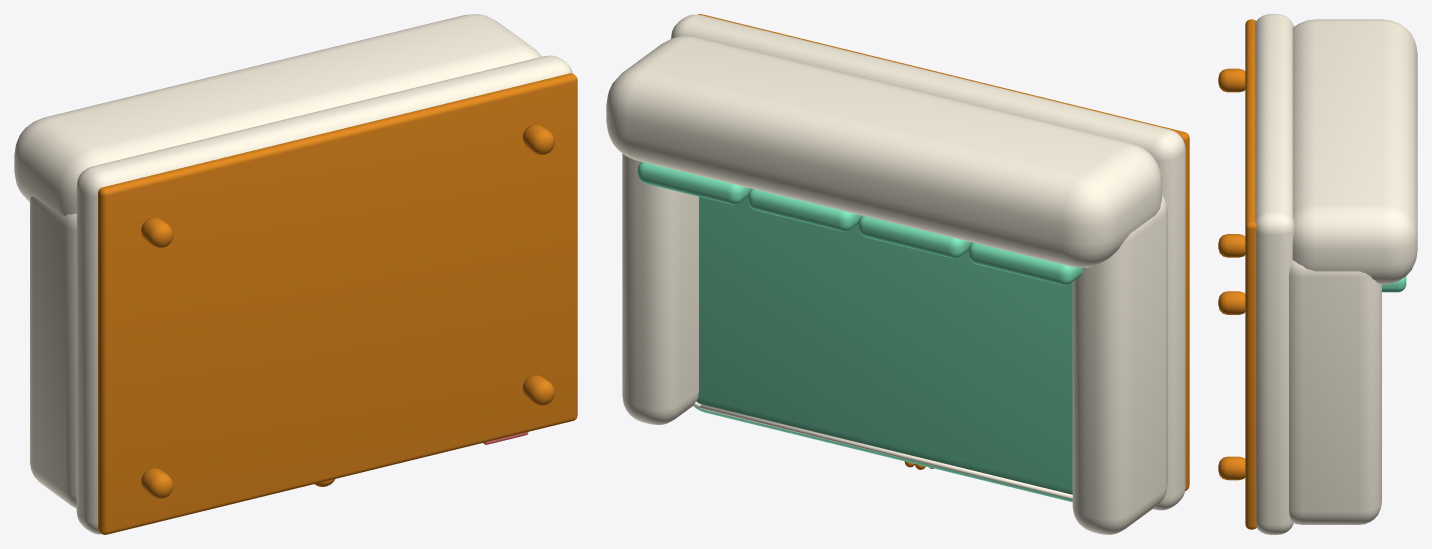
The model's file is MainCatBed_Premium.fbx.
3 views of the same model, side by side, from view 1: azimuth 30°, elevation 25°; view 2: azimuth 150°, elevation 25°; view 3: azimuth 270°, elevation 25° (orthographic). The views are drawn at different scales.
Visible parts, largest first — view 1: MainCatBed; view 2: MainCatBed; view 3: MainCatBed.
Part boxes in pixels (x1,y1,x2,y2): MainCatBed: (14, 14, 577, 534); MainCatBed: (606, 14, 1189, 534); MainCatBed: (1218, 14, 1417, 534).
Bounding box in the file's own units: 1.1 × 0.8038 × 0.438.
